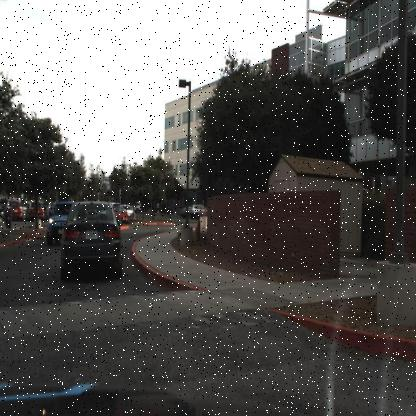car: (58, 196, 123, 286), (44, 198, 66, 245), (23, 197, 46, 225), (187, 198, 207, 220), (112, 200, 128, 226), (112, 203, 130, 224), (134, 197, 144, 217)
